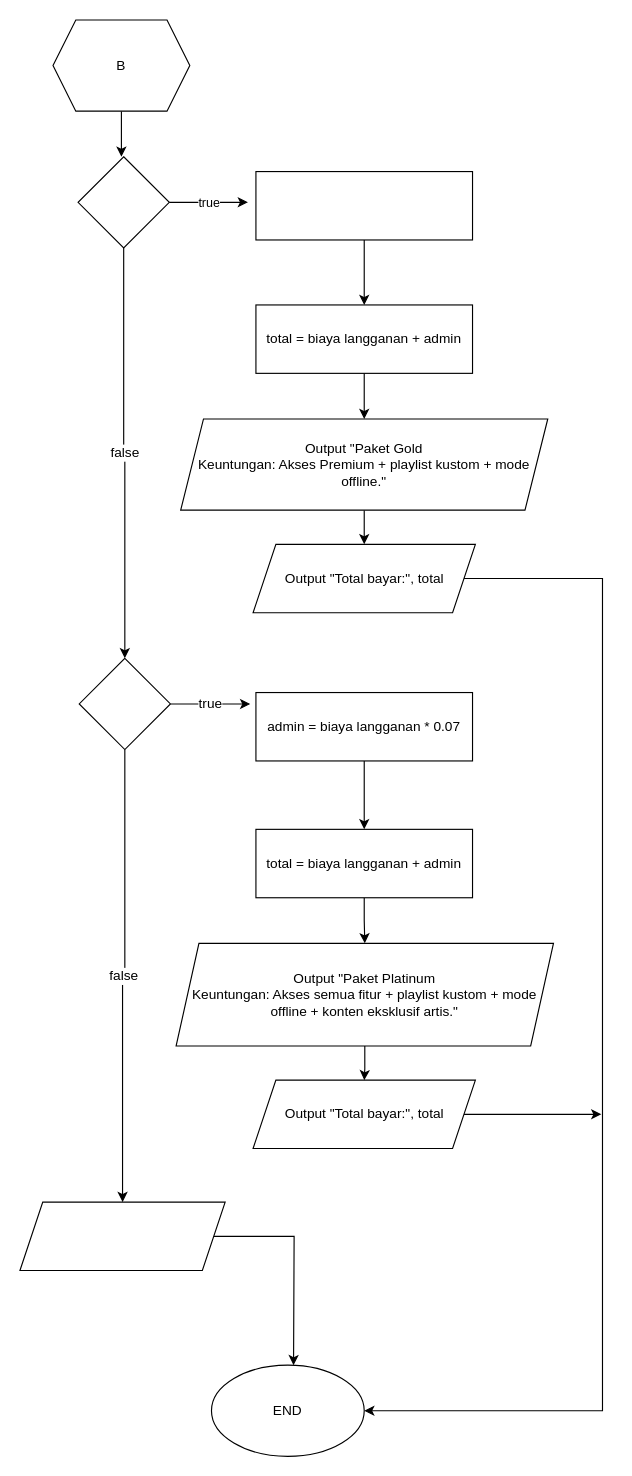
Image size: 632x1476. Some labels were removed from this diagram. Here are the shapes that lost their labels. From the top down, the centre of each, then its label:
(x=123, y=202): Paket 3
(x=364, y=205): admin = biaya langganan * 0.05
(x=124, y=703): Paket 4
(x=122, y=1236): Output "Pilihan paket tidak tersedia"
